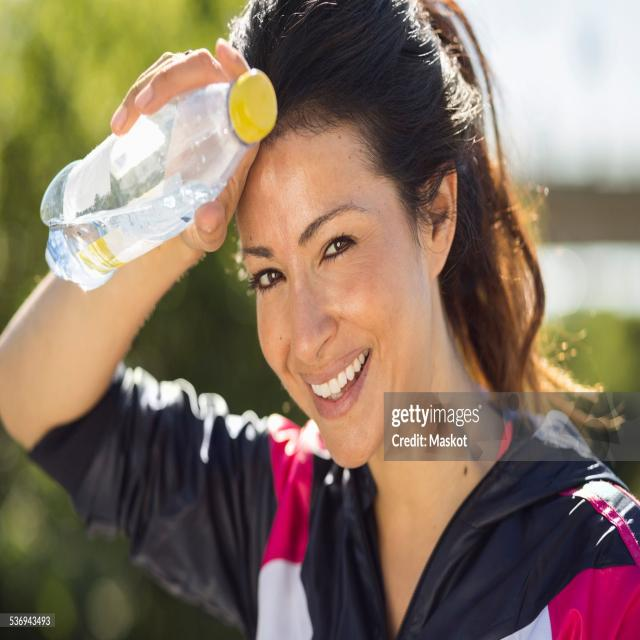bottle: (38, 68, 278, 296)
